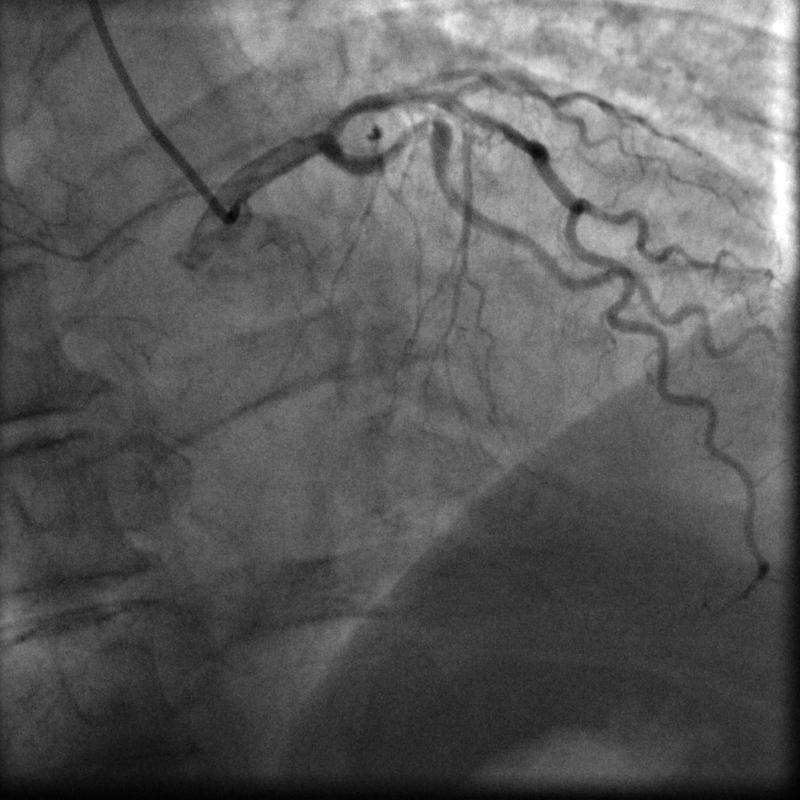Stenosis: (397, 116, 455, 143)
